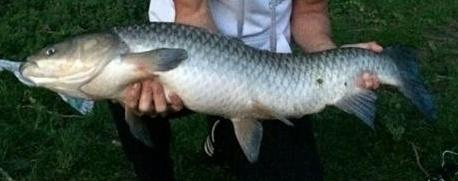Grass Carp: (21, 22, 434, 163)
